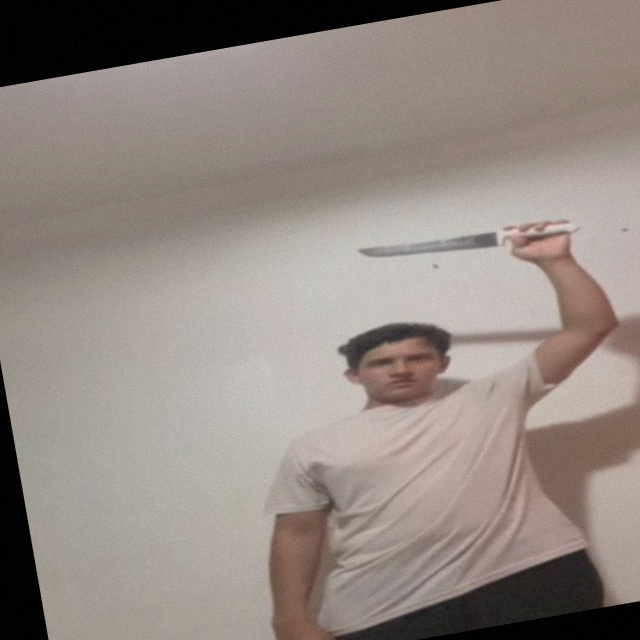Sharp-Object: (349, 220, 496, 271)
